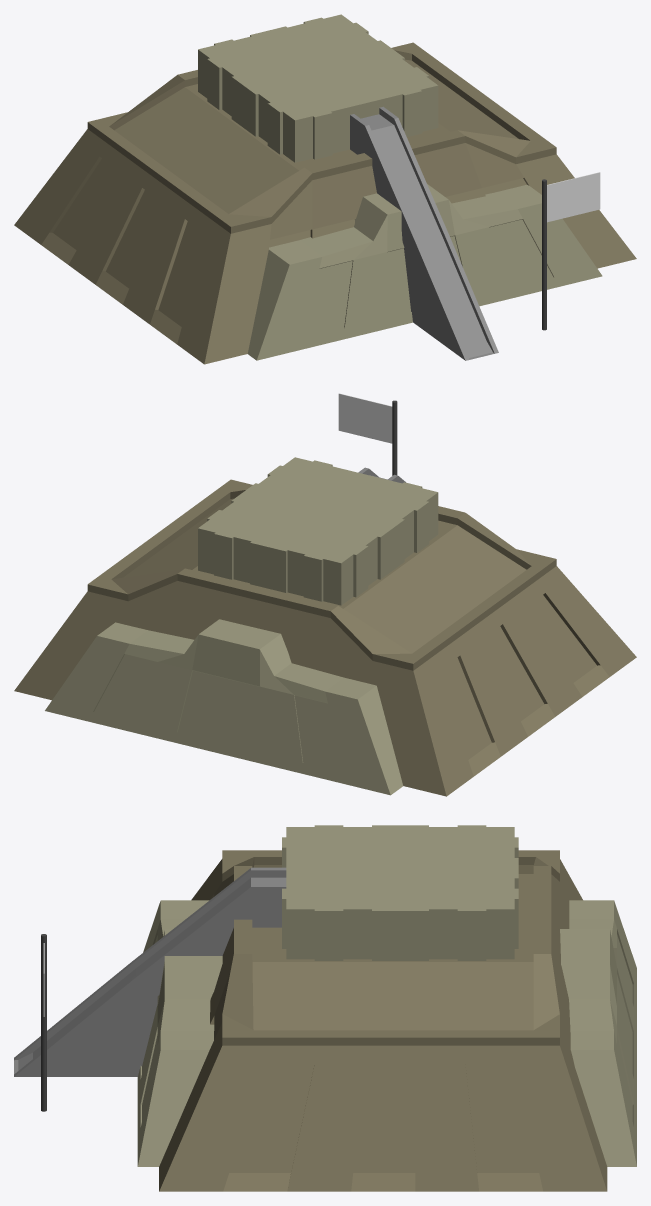
Rendered from temple (1).fbx.
3 renders of one model, top to bottom at view 1: azimuth 30°, elevation 25°; view 2: azimuth 150°, elevation 25°; view 3: azimuth 270°, elevation 25°, orthographic. The views are drawn at different scales.
Parts seen in each view (by area): view 1: Cube, Cube.003, Cube.004, Cube.001, Cube.006, Cube.005, Cylinder; view 2: Cube, Cube.002, Cube.004, Cube.006; view 3: Cube, Cube.004, Cube.002, Cube.001, Cube.003, Cube.005, Cylinder.
Part boxes in pixels (x1,y1,x2,y2): Cube: (14, 42, 636, 364); Cube.003: (247, 184, 602, 360); Cube.004: (198, 14, 438, 162); Cube.001: (365, 118, 498, 360); Cube.006: (547, 172, 600, 222); Cube.005: (350, 106, 397, 154); Cylinder: (542, 179, 546, 330); Cube: (14, 479, 636, 796); Cube.002: (45, 619, 403, 795); Cube.004: (198, 457, 438, 605); Cube.006: (338, 393, 392, 443); Cube: (159, 850, 607, 1191); Cube.004: (282, 825, 518, 960); Cube.002: (560, 900, 636, 1166); Cube.001: (14, 868, 250, 1076); Cube.003: (137, 900, 222, 1166); Cube.005: (251, 867, 286, 927); Cylinder: (41, 934, 46, 1111).
Size of the model in its own units: 1554 by 581 by 1646.
